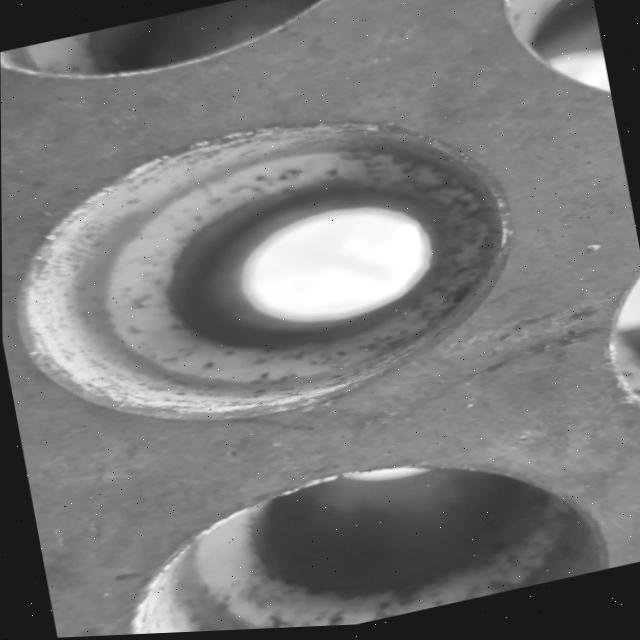Hole: (16, 84, 536, 464), (97, 423, 615, 637), (0, 0, 481, 111), (492, 0, 610, 116)
